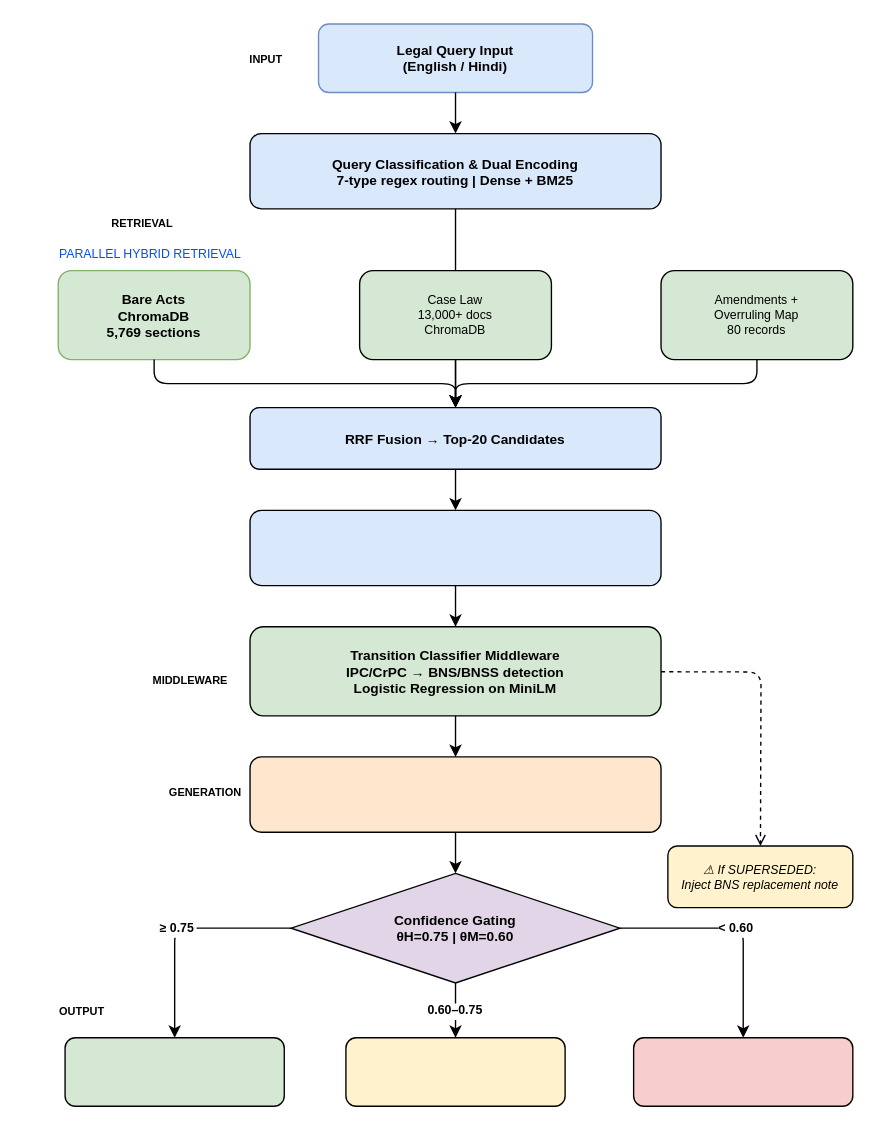
Some shapes in this 877 by 1130 pixel diagram are drawn without their labels. The centre of each missing label's shape, as x and y in pixels:
"Answer with Caveats" goes at (455,1071).
"Cross-Encoder Reranking ms-marco-MiniLM-L-6-v2 | Top-20 → Top-5" goes at (455,547).
"Explicit Abstention" goes at (742,1071).
"Final Answer + Citations" goes at (174,1071).
"LLM Generation Groq Llama-3.3-70b | temp=0 | seed=42" goes at (455,794).
